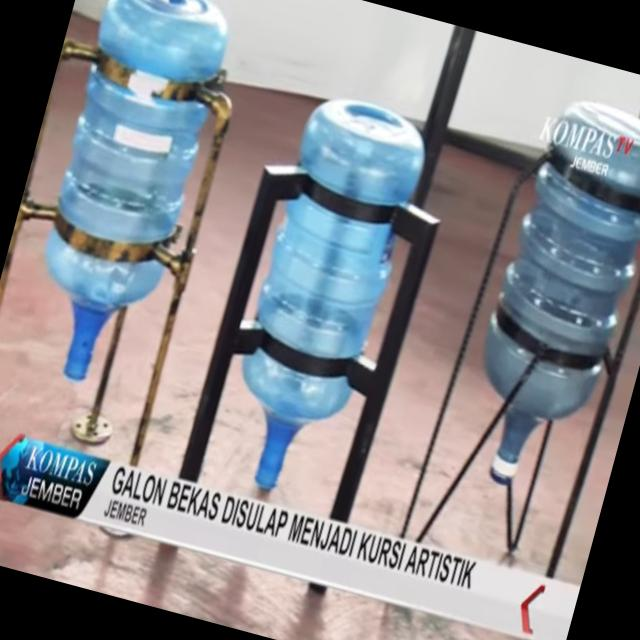Galon: (1, 0, 240, 408), (212, 97, 428, 501), (452, 83, 640, 514)
